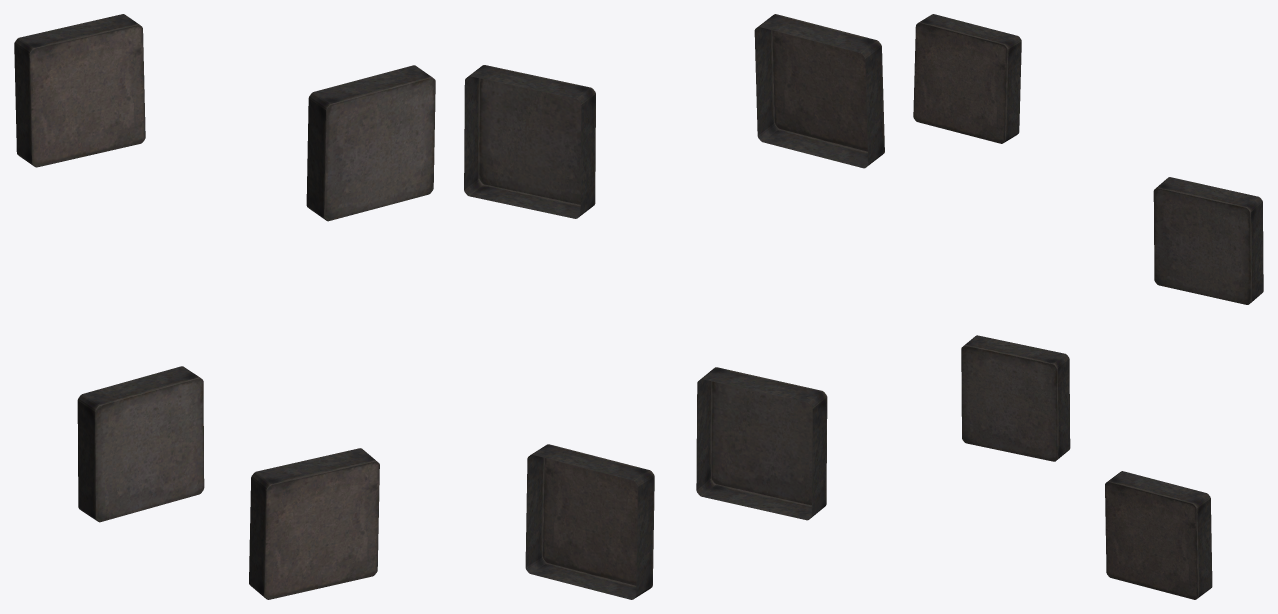
Rendered from hd_dec_UNI_003_PavingDirected_vertical_01_tinited.glb.
The picture shows the model from 3 angles, left to right: view 1: azimuth 30°, elevation 25°; view 2: azimuth 150°, elevation 25°; view 3: azimuth 330°, elevation 25°; orthographic projection. The views are drawn at different scales.
Parts seen in each view (by area): view 1: set_0_group_0; view 2: set_0_group_0; view 3: set_0_group_0.
Part boxes in pixels (x1,y1,x2,y2): set_0_group_0: (14,14,435,599); set_0_group_0: (464,14,884,599); set_0_group_0: (913,14,1263,599).
Size of the model in its own units: 1.73 by 2.48 by 0.173.
1 material, 1 textured.
